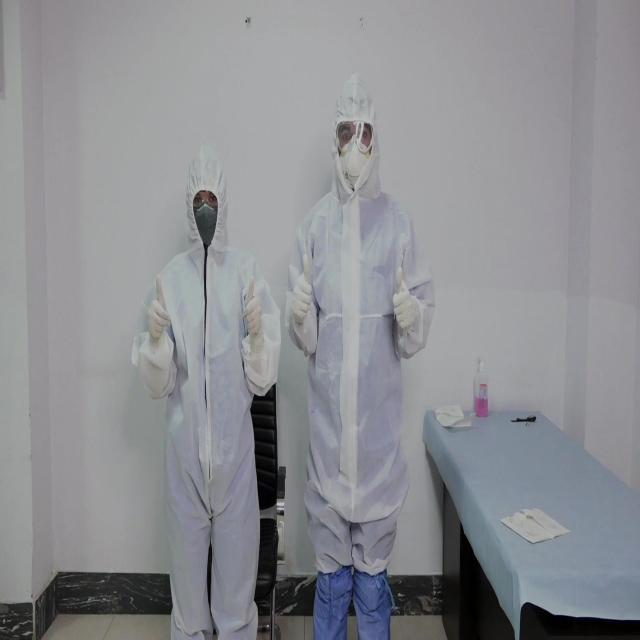Gloves: (391, 264, 417, 330), (290, 253, 313, 322), (146, 272, 170, 338), (243, 274, 262, 339)
Goggles: (338, 119, 374, 155), (194, 184, 218, 212)
